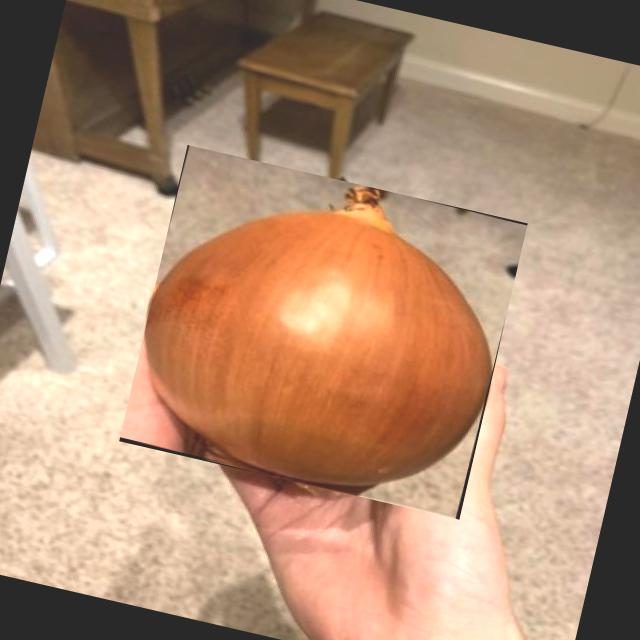healthy: (145, 189, 492, 486)
